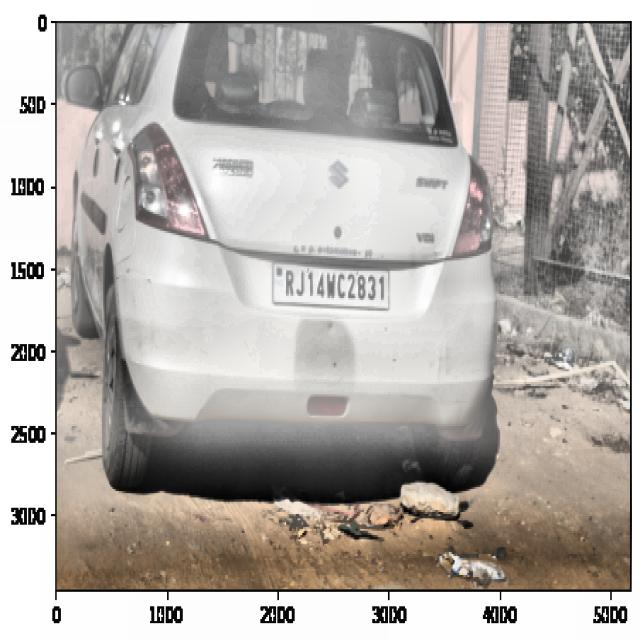license_plate: (280, 259, 390, 309)
